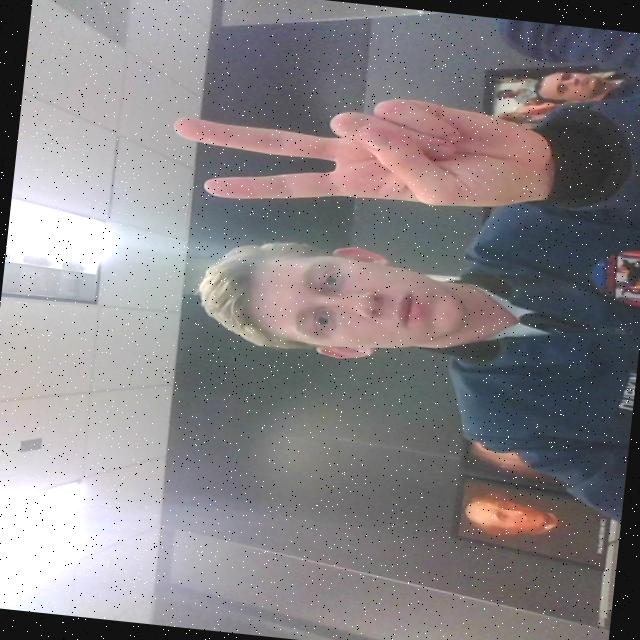scissors: (160, 66, 572, 237)
